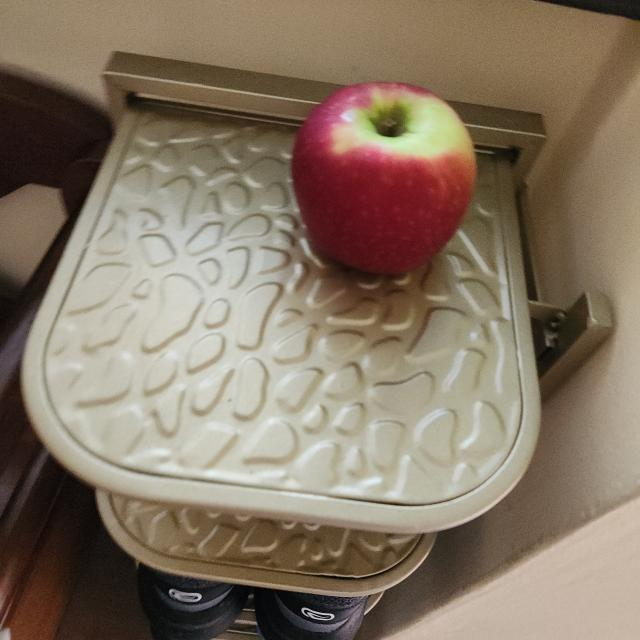apple: (283, 79, 484, 278)
